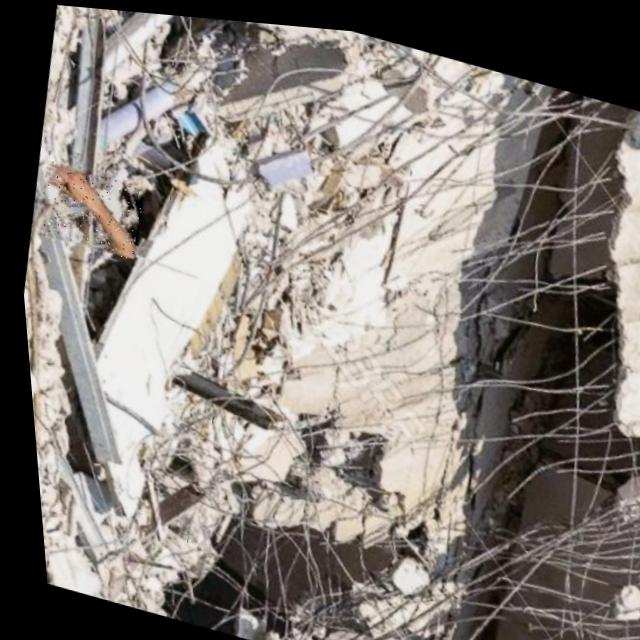Person in Rubble: (29, 159, 145, 260)
